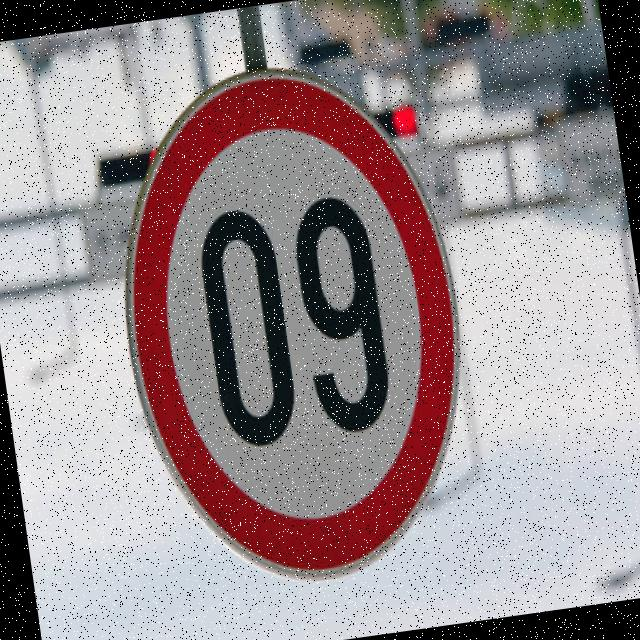speed_limit_60: (80, 36, 502, 607)
